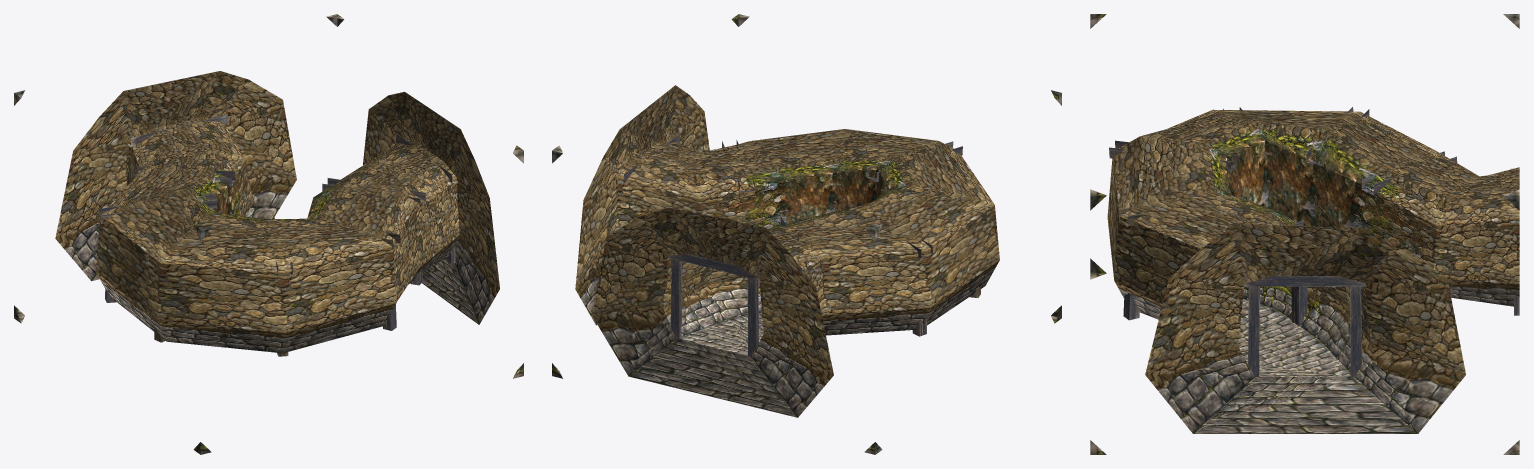
The model's file is Lbm_2m.glb.
The picture shows the model from 3 angles, left to right: view 1: azimuth 30°, elevation 25°; view 2: azimuth 150°, elevation 25°; view 3: azimuth 270°, elevation 25°; orthographic projection. The views are drawn at different scales.
Parts seen in each view (by area): view 1: Lbm_2m-col; view 2: Lbm_2m-col; view 3: Lbm_2m-col.
Part boxes in pixels (box(x1,y1,x2,y2)): Lbm_2m-col: box(14, 14, 523, 454); Lbm_2m-col: box(552, 14, 1061, 454); Lbm_2m-col: box(1090, 14, 1519, 454).
Bounding box in the file's own units: 15 × 10 × 15.
10 materials, 10 textured.
